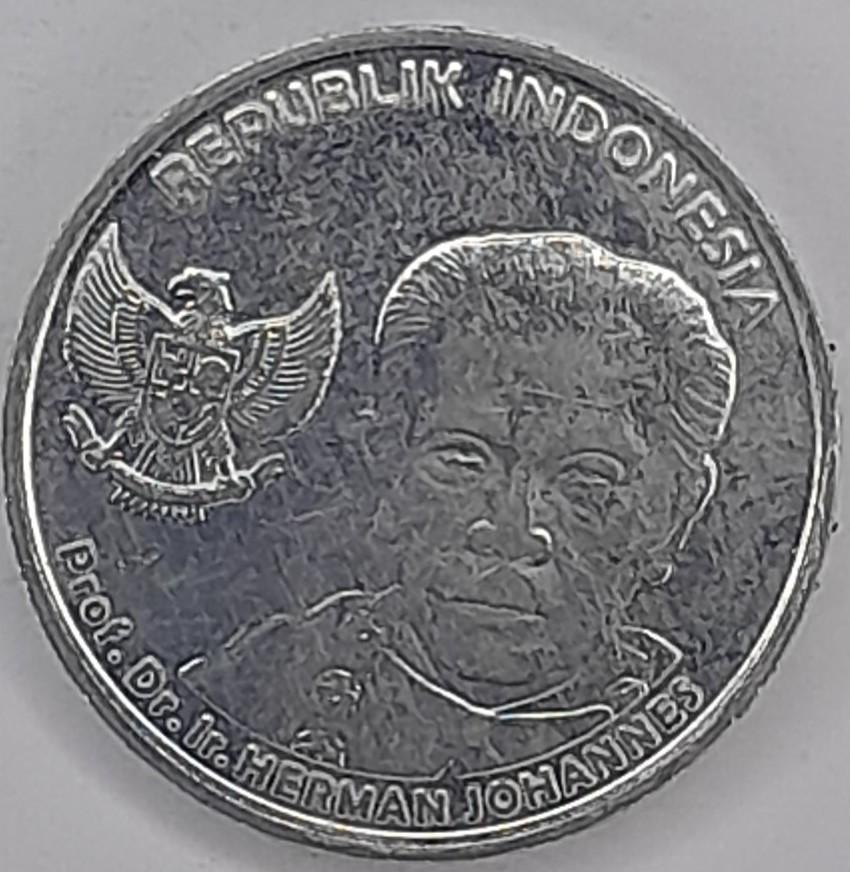coin_100_e2016: (0, 18, 848, 862)
